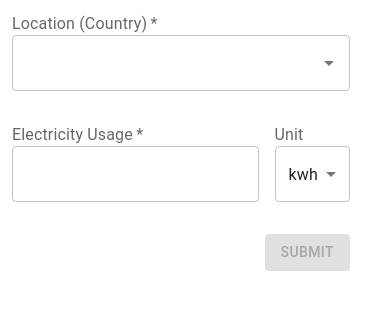
Test: Electricity Usage Input › shows an error when entering a non-numerical value
Step 1. Type "abc" into the field labelled "Electricity Usage" → {"x": 135, "y": 174}, box [12,146,258,202]
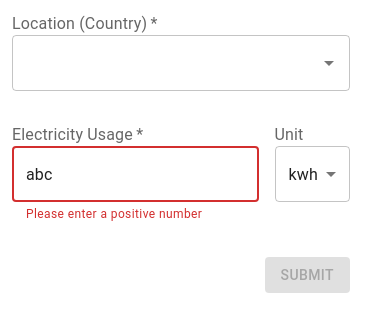
Now the text "Please enter a positive number" is shown, box [26,207,202,221]
